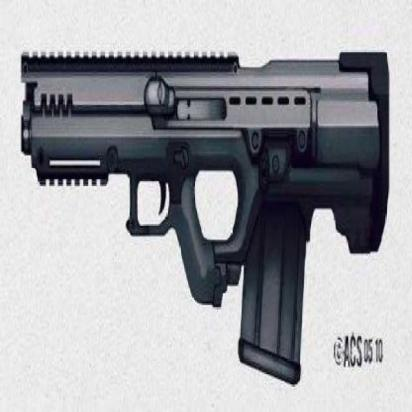Gun: (23, 9, 395, 370)
